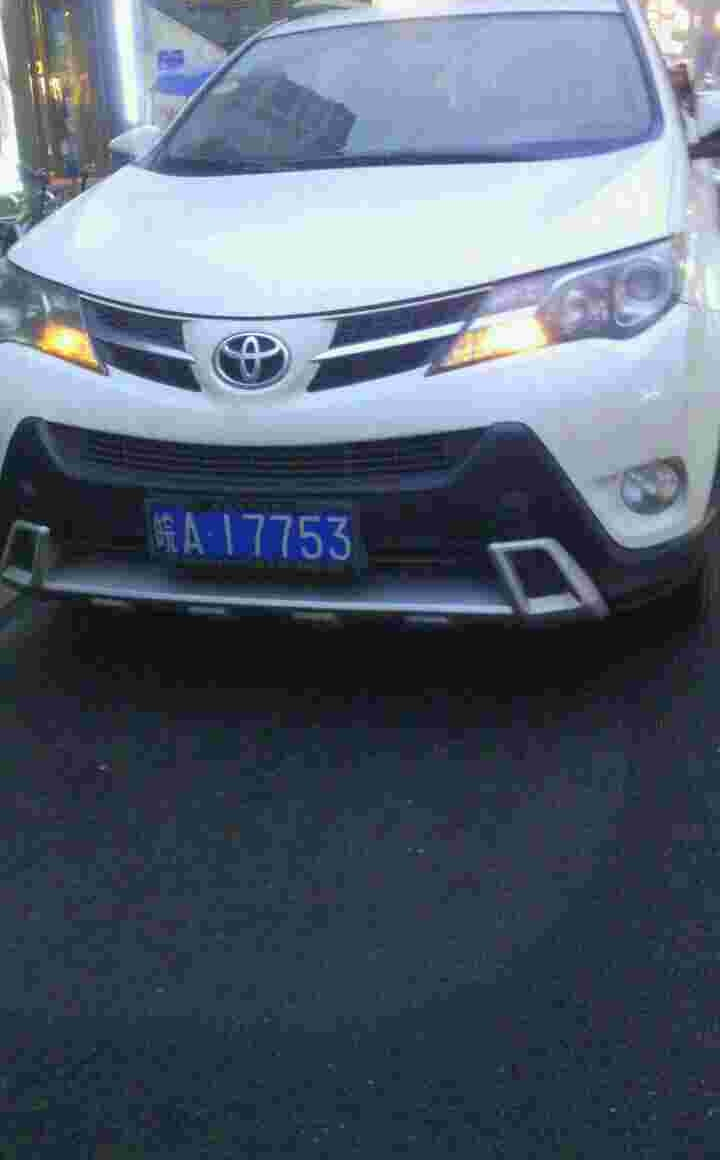license_plate: (157, 506, 369, 565)
